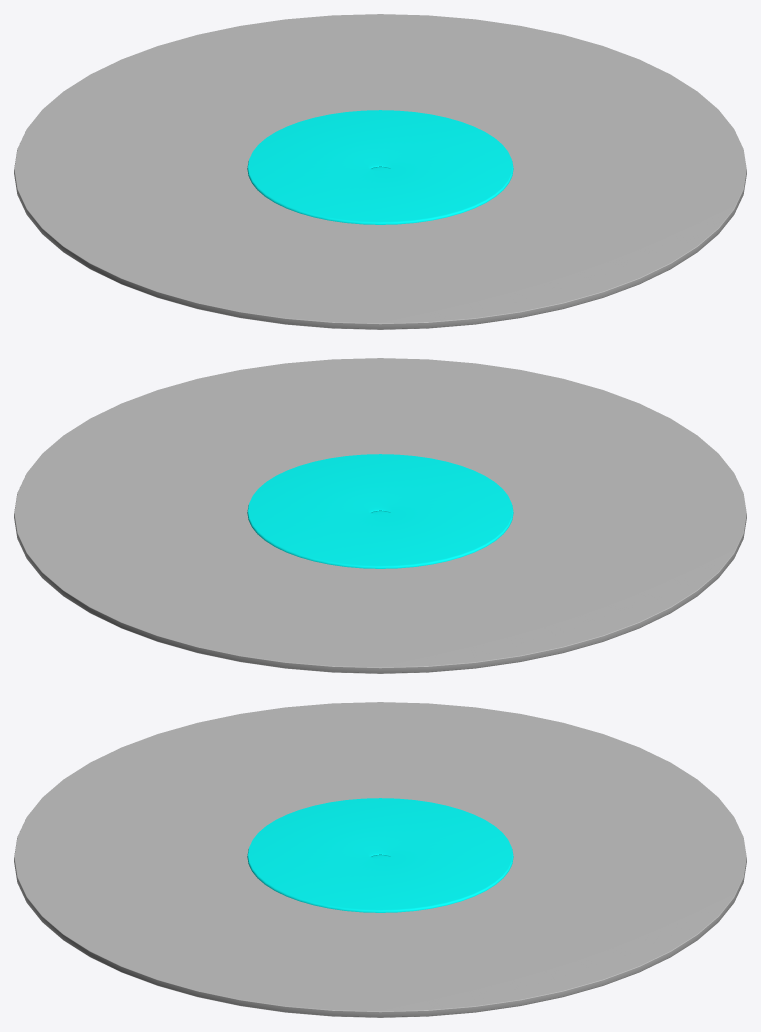
File: Record_2.fbx
3 views of the same model, one above another, from view 1: azimuth 30°, elevation 25°; view 2: azimuth 150°, elevation 25°; view 3: azimuth 270°, elevation 25° (orthographic).
Parts seen in each view (by area): view 1: Record_2; view 2: Record_2; view 3: Record_2.
Boxes of the visible parts, left/top/right/bottom form: Record_2: left=14, top=14, right=746, bottom=329; Record_2: left=14, top=358, right=746, bottom=673; Record_2: left=14, top=702, right=746, bottom=1017.
Size of the model in its own units: 0.4303 by 0.00782 by 0.4303.
